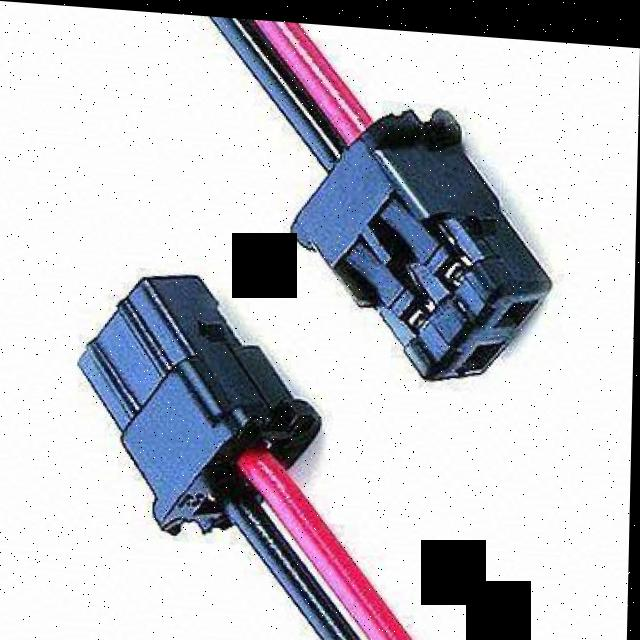connector: (270, 72, 599, 399), (28, 244, 342, 561)
